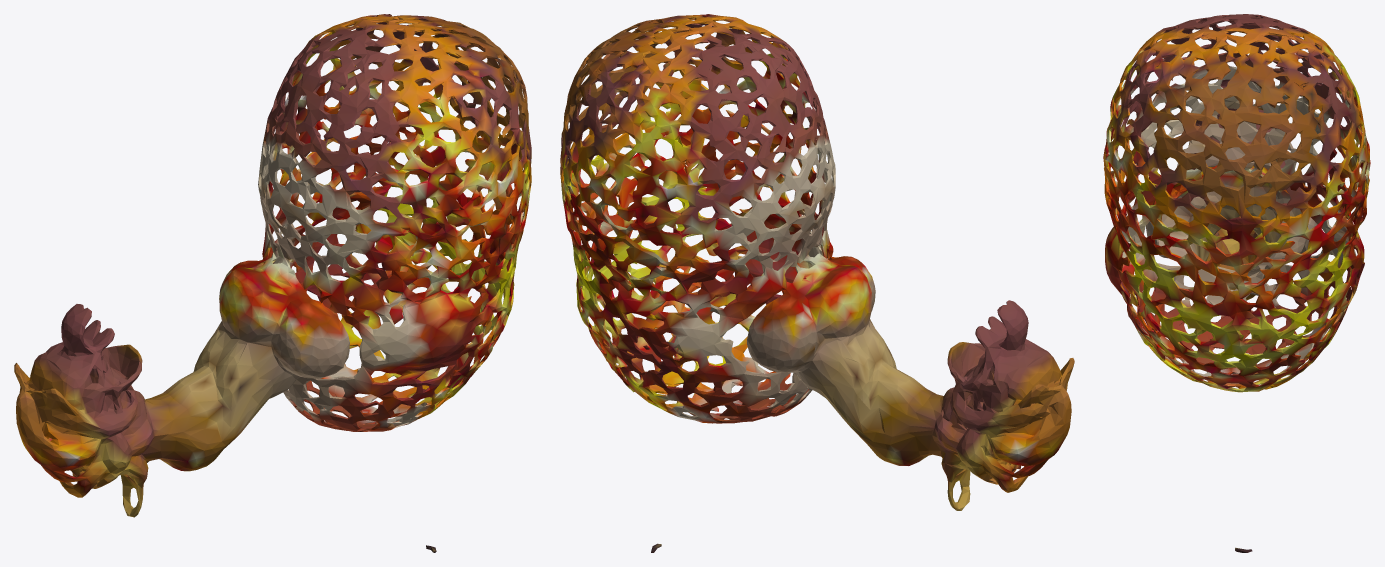
The model's file is succubus.glb.
3 views of the same model, side by side, from view 1: azimuth 30°, elevation 25°; view 2: azimuth 150°, elevation 25°; view 3: azimuth 270°, elevation 25° (orthographic). The views are drawn at different scales.
Parts seen in each view (by area): view 1: world; view 2: world; view 3: world.
Part boxes in pixels (x1,y1,x2,y2): world: [14, 14, 531, 552]; world: [560, 14, 1074, 552]; world: [1103, 14, 1370, 552].
Bounding box in the file's own units: 0.9908 × 1 × 0.4816.
